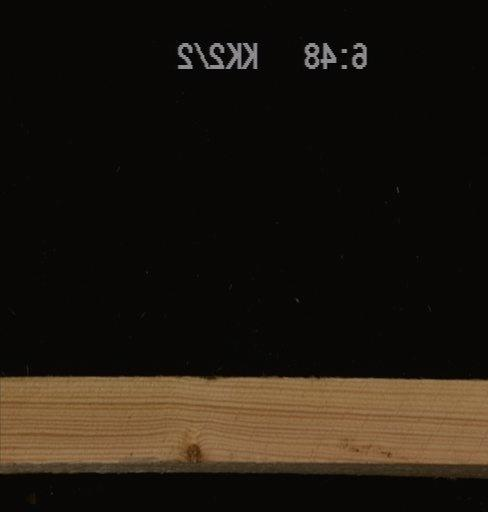edge_knot: (185, 441, 202, 466)
